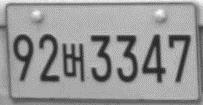2: (38, 33, 59, 82)
3: (90, 34, 112, 82), (116, 34, 138, 82)
4: (141, 33, 166, 82)
7: (167, 33, 191, 82)
9: (12, 33, 34, 81)
버: (61, 42, 85, 81)
